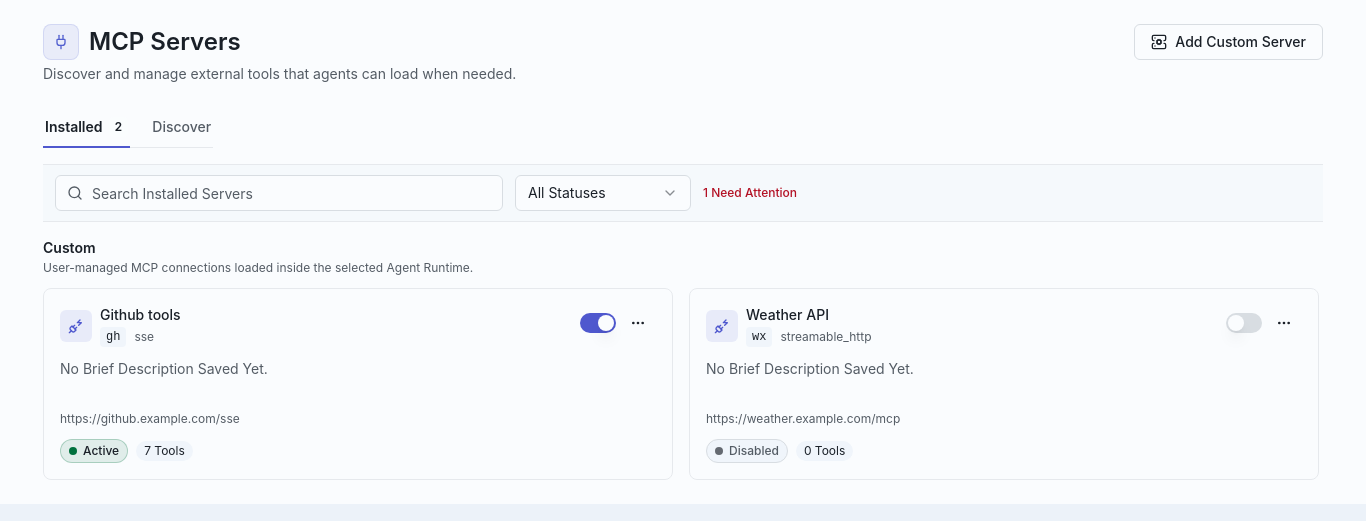
McpServersPage › narrows by name when typing in the search box
The image size is (1366, 521).
Check: the link "Github tools" is shown, box 100,305 -> 181,325
Type "weather" into the field with test id "mcp-search". click: (279,193)
box: 55,175 -> 503,211
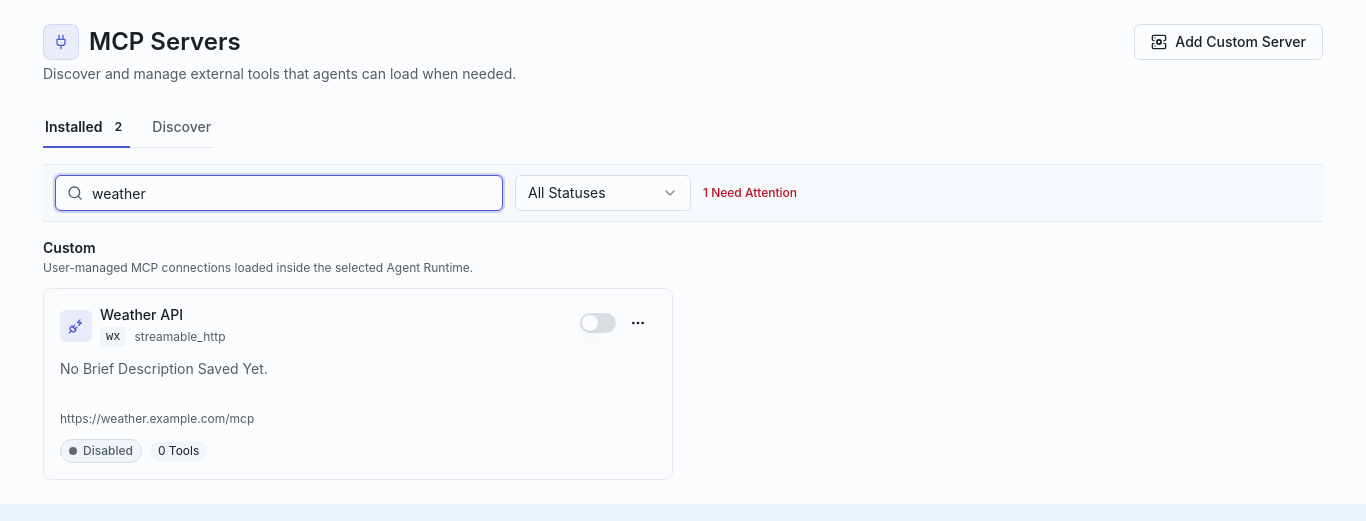
Check: the link "Weather API" is shown, box 100,306 -> 183,323
Check: the link "Github tools" is gone
Check: the number of elements with test id "mcp-card" is 1, box 43,288 -> 673,480
